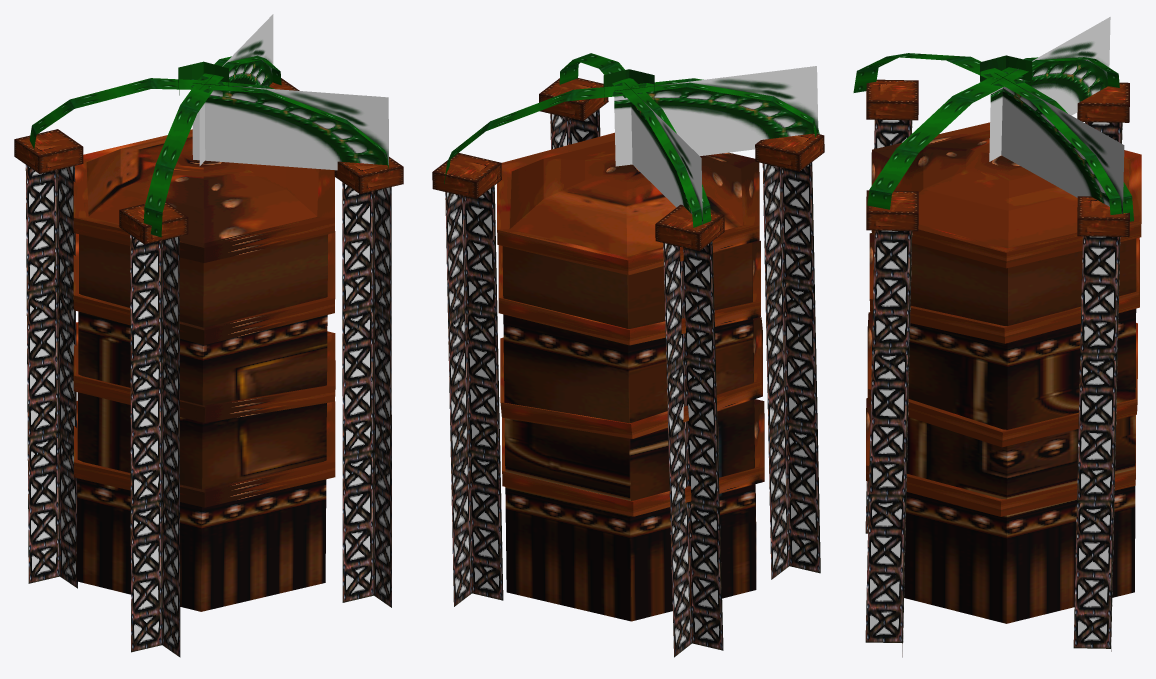
The model's file is Gasometer [Zeppelin]_622.glb.
The picture shows the model from 3 angles, left to right: view 1: azimuth 30°, elevation 25°; view 2: azimuth 150°, elevation 25°; view 3: azimuth 270°, elevation 25°; orthographic projection. The views are drawn at different scales.
Parts seen in each view (by area): view 1: pCylinderShape1, pCylinderShape4, pCylinderShape5, pCylinderShape3, pSphereShape1, pPlaneShape1, pTorusShape1, pTorusShape2, pTorusShape4, pTorusShape3, pPlaneShape6, pPlaneShape7 (+10 smaller); view 2: pCylinderShape1, pCylinderShape2, pCylinderShape5, pCylinderShape3, pSphereShape1, pPlaneShape5, pTorusShape1, pTorusShape3, pTorusShape2, pTorusShape4, pPlaneShape3, pPlaneShape4 (+13 smaller); view 3: pCylinderShape1, pCylinderShape4, pCylinderShape2, pSphereShape1, pPlaneShape7, pTorusShape1, pPlaneShape3, pTorusShape3, pTorusShape2, pTorusShape4, pPlaneShape2, pPlaneShape8 (+13 smaller).
Boxes of the visible parts, x1,y1,x2,y2 form: pCylinderShape1: [76, 234, 328, 611]; pCylinderShape4: [342, 182, 391, 607]; pCylinderShape5: [130, 235, 180, 657]; pCylinderShape3: [25, 165, 77, 588]; pSphereShape1: [86, 132, 318, 243]; pPlaneShape1: [192, 83, 388, 170]; pTorusShape1: [73, 129, 334, 262]; pTorusShape2: [73, 231, 335, 345]; pTorusShape4: [74, 401, 335, 507]; pTorusShape3: [73, 322, 335, 422]; pPlaneShape6: [143, 75, 212, 237]; pPlaneShape7: [199, 14, 273, 165]; pCylinderShape1: [502, 242, 756, 621]; pCylinderShape2: [445, 185, 503, 606]; pCylinderShape5: [762, 162, 820, 579]; pCylinderShape3: [663, 241, 723, 657]; pSphereShape1: [509, 140, 742, 256]; pPlaneShape5: [614, 66, 818, 166]; pTorusShape1: [497, 132, 759, 275]; pTorusShape3: [500, 317, 762, 438]; pTorusShape2: [498, 240, 760, 345]; pTorusShape4: [502, 399, 764, 516]; pPlaneShape3: [624, 82, 702, 224]; pPlaneShape4: [614, 79, 711, 227]; pCylinderShape1: [904, 238, 1136, 623]; pCylinderShape4: [865, 230, 912, 657]; pCylinderShape2: [1073, 236, 1120, 651]; pSphereShape1: [894, 130, 1128, 248]; pPlaneShape7: [995, 73, 1124, 213]; pTorusShape1: [871, 122, 1141, 268]; pPlaneShape3: [989, 17, 1110, 161]; pTorusShape3: [867, 312, 1137, 447]; pTorusShape2: [869, 232, 1139, 343]; pTorusShape4: [866, 398, 1135, 516]; pPlaneShape2: [867, 73, 1023, 209]; pPlaneShape8: [983, 71, 1133, 221].
Size of the model in its own units: 0.9997 by 1.87 by 0.8996.
39 materials, 39 textured.
